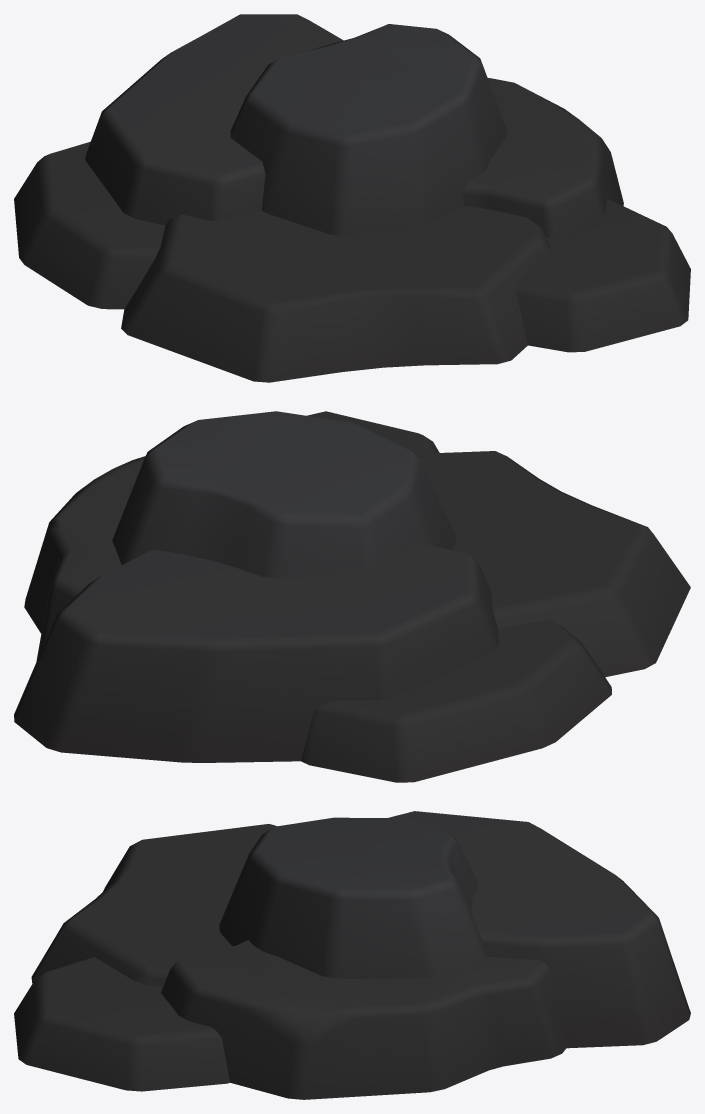
The model's file is inferno-rock-mid-004.glb.
3 views of the same model, one above another, from view 1: azimuth 30°, elevation 25°; view 2: azimuth 150°, elevation 25°; view 3: azimuth 270°, elevation 25° (orthographic). The views are drawn at different scales.
Parts seen in each view (by area): view 1: RockMid_004; view 2: RockMid_004; view 3: RockMid_004.
Boxes of the visible parts, bbox=[...] form: RockMid_004: bbox=[14, 14, 690, 382]; RockMid_004: bbox=[14, 411, 690, 782]; RockMid_004: bbox=[14, 811, 690, 1099].
Size of the model in its own units: 9.33 by 2.73 by 11.04.
Materials: 1 (1 with a texture image).
